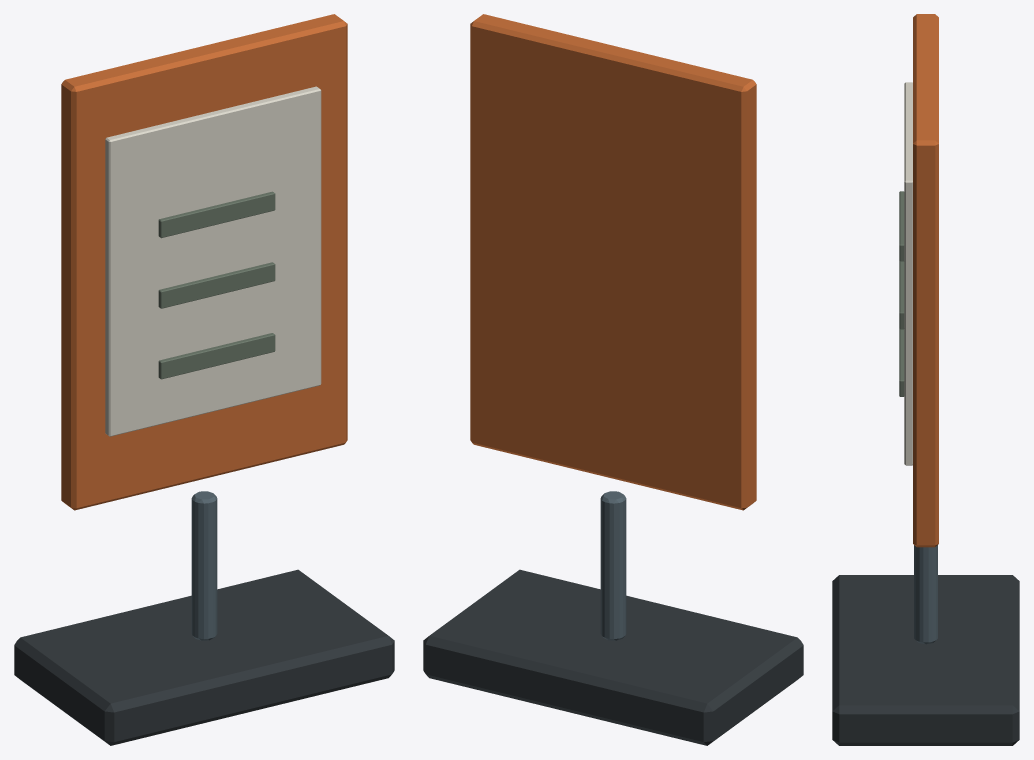
Rendered from PRP_CITY_019_sidewalk_banner_stand.glb.
The picture shows the model from 3 angles, left to right: view 1: azimuth 30°, elevation 25°; view 2: azimuth 150°, elevation 25°; view 3: azimuth 270°, elevation 25°; orthographic projection. The views are drawn at different scales.
Parts seen in each view (by area): view 1: PRP_CITY_019_sidewalk_banner_stand_RenderMesh; view 2: PRP_CITY_019_sidewalk_banner_stand_RenderMesh; view 3: PRP_CITY_019_sidewalk_banner_stand_RenderMesh.
Boxes of the visible parts, x1=… form: PRP_CITY_019_sidewalk_banner_stand_RenderMesh: x1=14, y1=14, x2=394, y2=745; PRP_CITY_019_sidewalk_banner_stand_RenderMesh: x1=423, y1=14, x2=803, y2=745; PRP_CITY_019_sidewalk_banner_stand_RenderMesh: x1=832, y1=14, x2=1019, y2=745.
Bounding box in the file's own units: 0.86 × 1.78 × 0.5.
